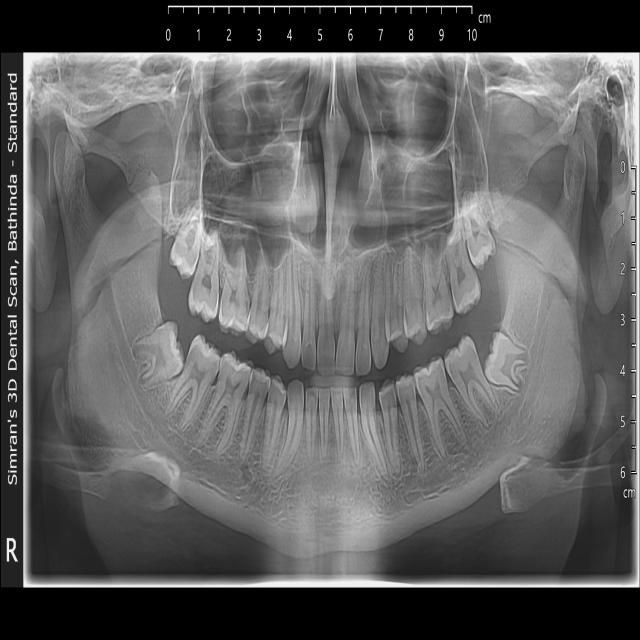Caries: (219, 292, 251, 334)
impacted tooth: (130, 326, 181, 388), (461, 190, 498, 274), (484, 328, 526, 400), (171, 204, 201, 275)
